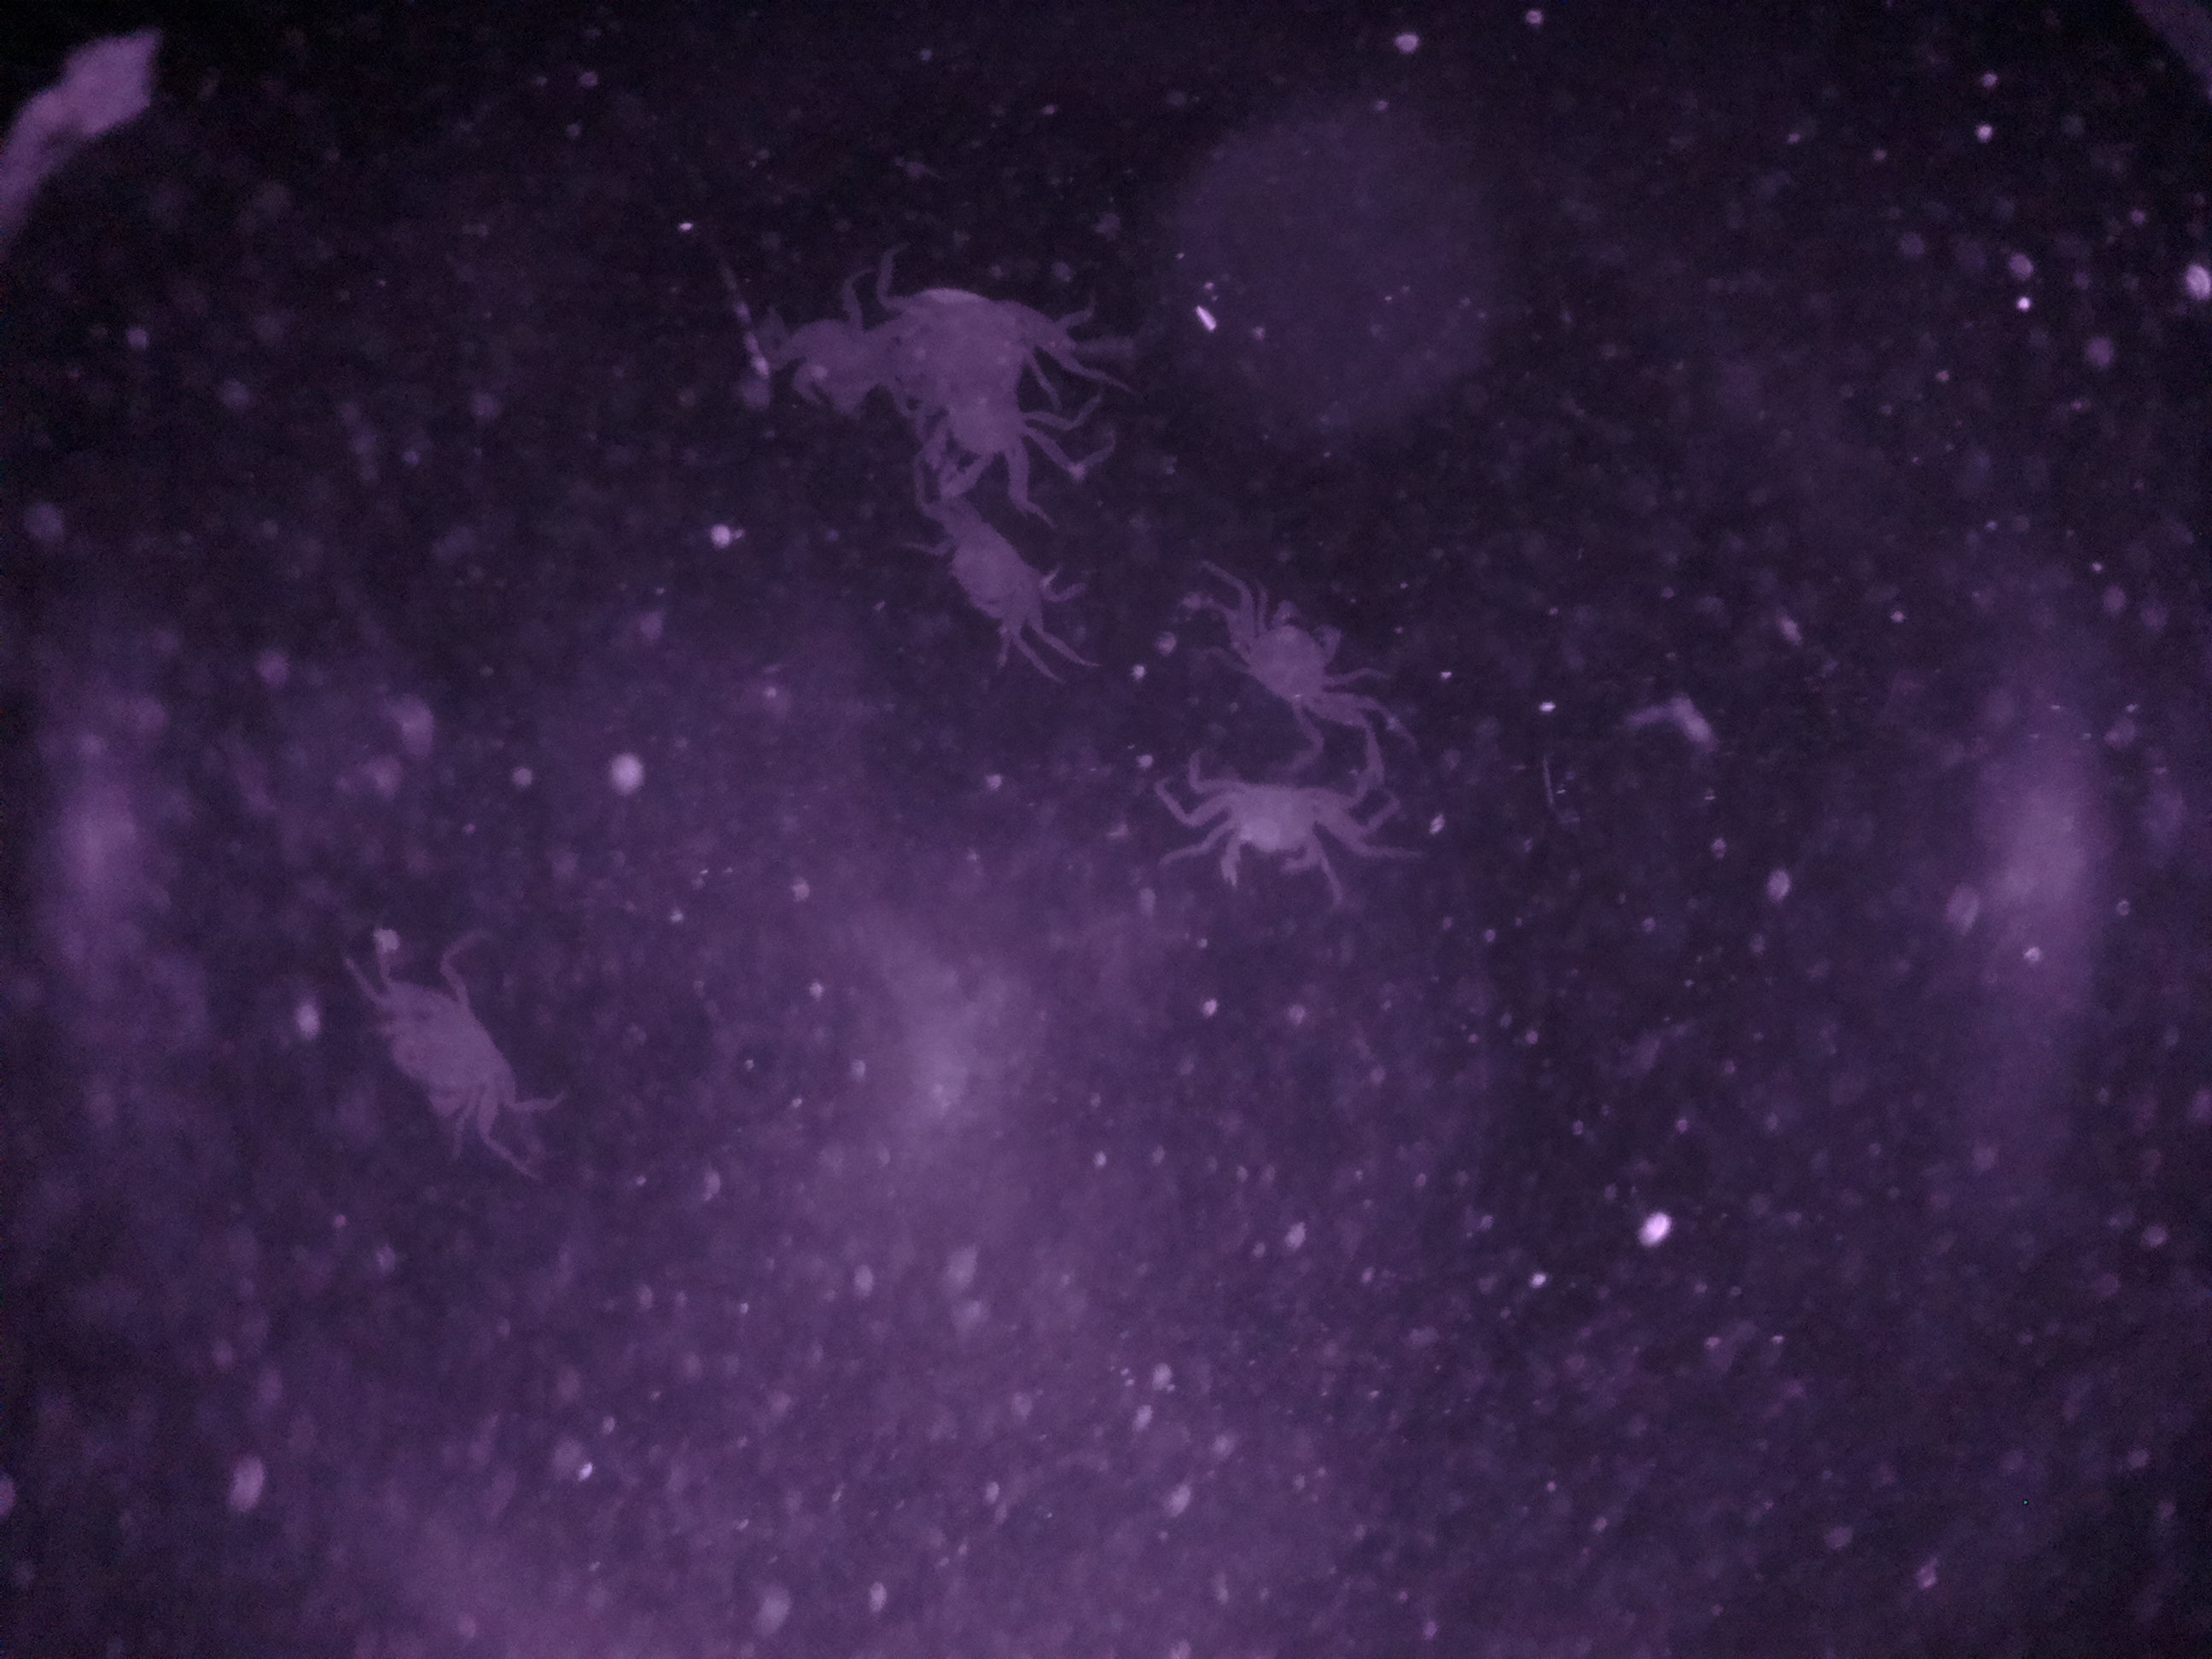Crab: (1193, 565, 1400, 741), (1146, 749, 1399, 887)
